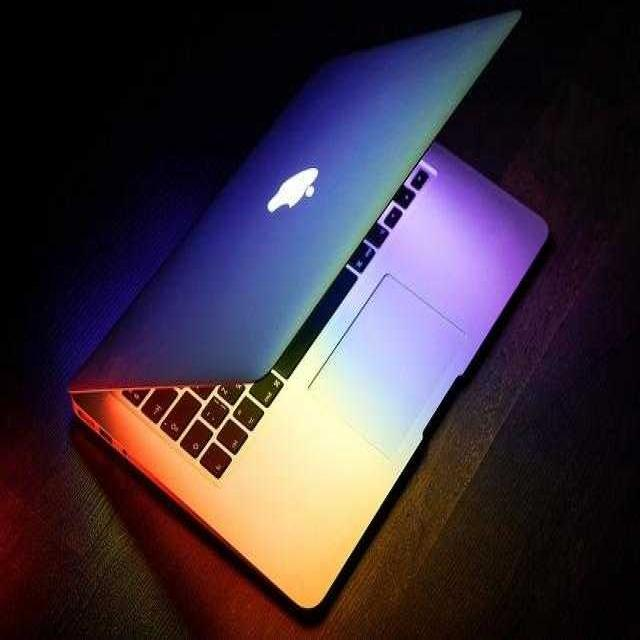laptop: (74, 20, 561, 574)
